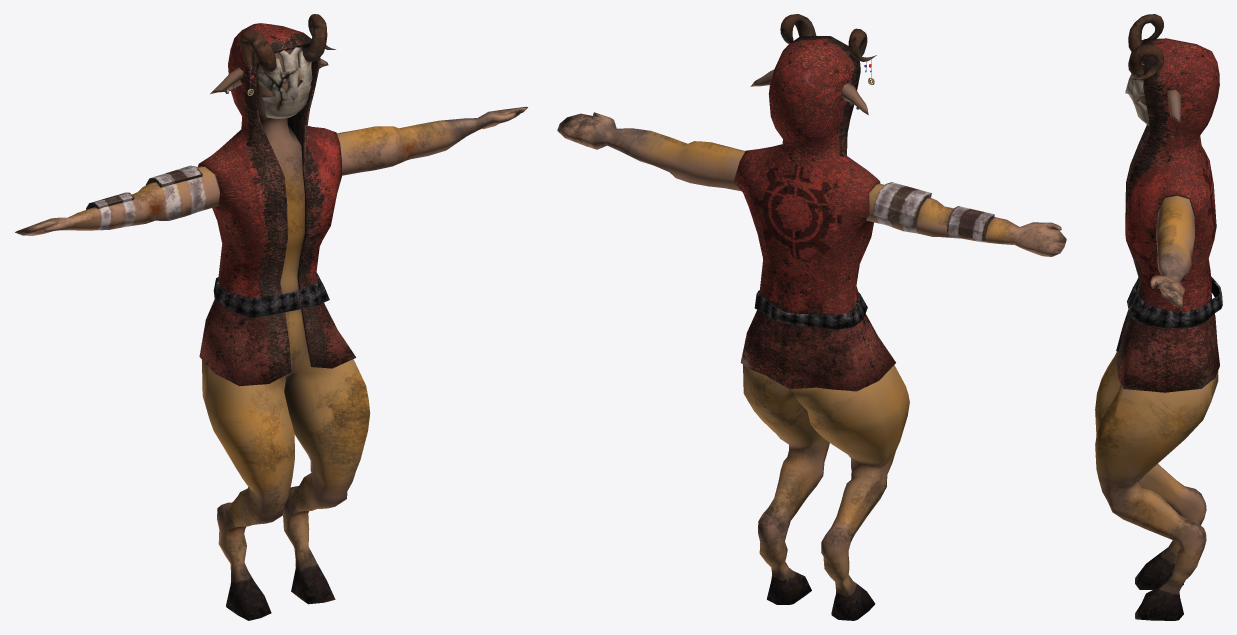
File: faun.obj
The picture shows the model from 3 angles, left to right: view 1: azimuth 30°, elevation 25°; view 2: azimuth 150°, elevation 25°; view 3: azimuth 270°, elevation 25°; orthographic projection. The views are drawn at different scales.
Parts seen in each view (by area): view 1: body_Cuerpo001, ropa_Cuerpo001.001, arms_Cuerpo001.008, Mask_Cuerpo001.004, Belt_Cuerpo001.012, Horns_Cuerpo001.002, hombreras_Cylinder.001; view 2: ropa_Cuerpo001.001, body_Cuerpo001, arms_Cuerpo001.008, hombreras_Cylinder.001, Belt_Cuerpo001.012, Horns_Cuerpo001.002; view 3: ropa_Cuerpo001.001, body_Cuerpo001, arms_Cuerpo001.008, Belt_Cuerpo001.012, Horns_Cuerpo001.002, Mask_Cuerpo001.004, orejas_Mesh.008.
Boxes of the visible parts, x1,y1,x2,y2 form: body_Cuerpo001: (202,46,370,620); ropa_Cuerpo001.001: (198,23,355,386); arms_Cuerpo001.008: (15,106,527,235); Mask_Cuerpo001.004: (256,47,312,118); Belt_Cuerpo001.012: (213,272,329,317); Horns_Cuerpo001.002: (239,14,335,72); hombreras_Cylinder.001: (86,165,202,209); ropa_Cuerpo001.001: (734,36,895,391); body_Cuerpo001: (743,364,909,620); arms_Cuerpo001.008: (557,112,1066,256); hombreras_Cylinder.001: (873,182,994,241); Belt_Cuerpo001.012: (754,290,867,329); Horns_Cuerpo001.002: (780,14,876,61); ropa_Cuerpo001.001: (1116,38,1219,392); body_Cuerpo001: (1095,62,1218,620); arms_Cuerpo001.008: (1150,195,1194,307); Belt_Cuerpo001.012: (1127,276,1222,328); Horns_Cuerpo001.002: (1128,14,1163,80); Mask_Cuerpo001.004: (1125,60,1149,125); orejas_Mesh.008: (1167,90,1180,124).
Size of the model in its own units: 229 by 251 by 50.95.
Materials: 9 (9 with a texture image).
